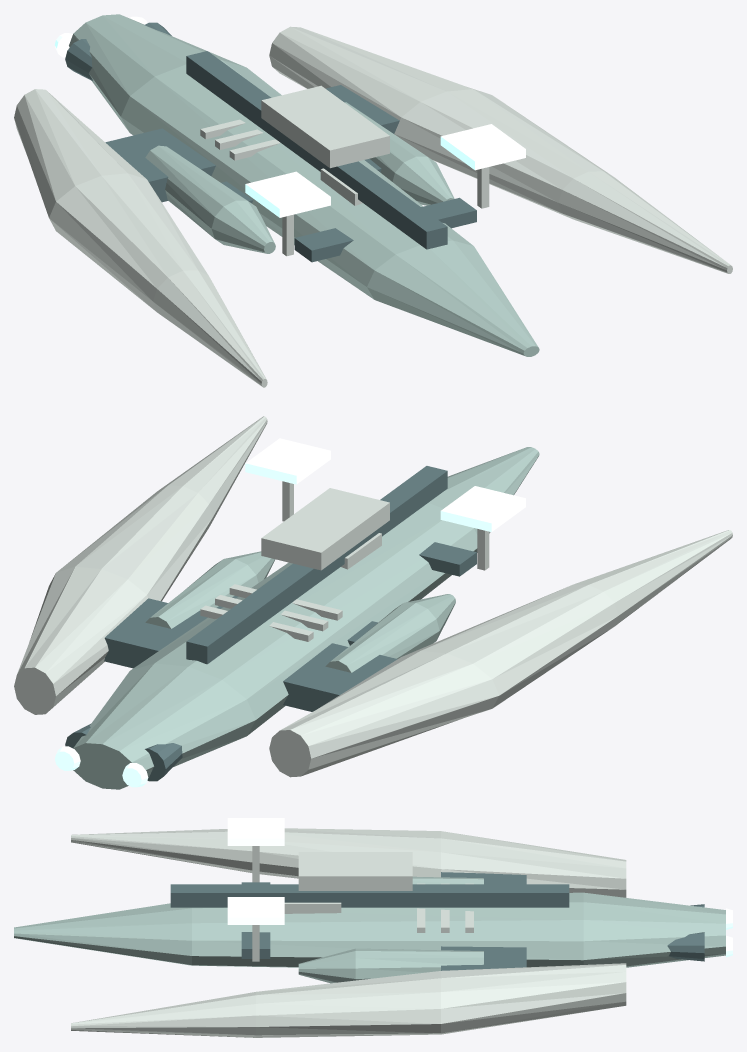
The picture shows the model from 3 angles, top to bottom: view 1: azimuth 30°, elevation 25°; view 2: azimuth 150°, elevation 25°; view 3: azimuth 270°, elevation 25°; orthographic projection. The views are drawn at different scales.
Bounding box in the file's own units: 6.34 × 1.54 × 10.1.
